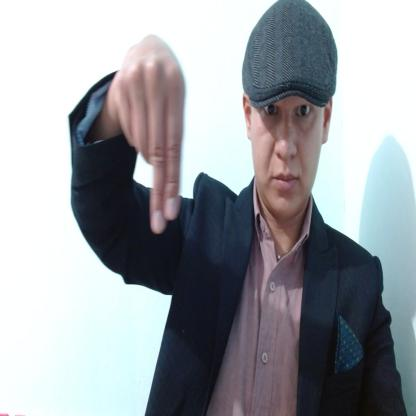N: (113, 34, 188, 232)
